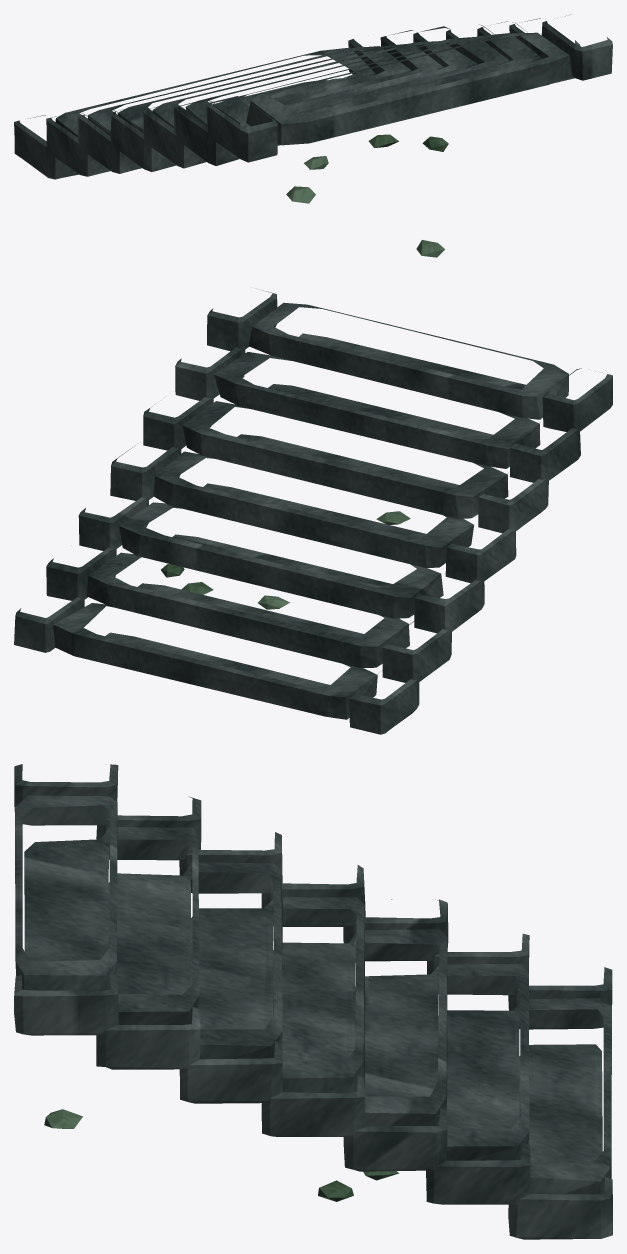
The model's file is 0364_stairs_14.glb.
The picture shows the model from 3 angles, top to bottom: view 1: azimuth 30°, elevation 25°; view 2: azimuth 150°, elevation 25°; view 3: azimuth 270°, elevation 25°; orthographic projection. The views are drawn at different scales.
Parts seen in each view (by area): view 1: stone_dark, moss; view 2: stone_dark, moss; view 3: stone_dark, moss.
Boxes of the visible parts, box(x1,y1,x2,y2) form: stone_dark: box(14, 14, 612, 179); moss: box(286, 134, 448, 257); stone_dark: box(14, 288, 612, 734); moss: box(161, 511, 410, 609); stone_dark: box(14, 764, 612, 1239); moss: box(44, 1109, 399, 1201).
Size of the model in its own units: 2.94 by 1.47 by 3.2.
Materials: 2 (2 with a texture image).
